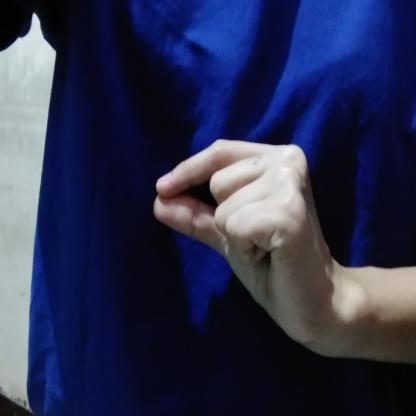nothing: (149, 132, 348, 368)
